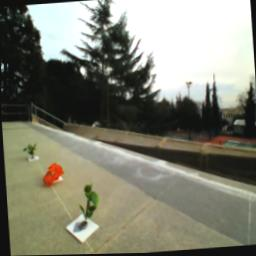herb: (78, 182, 101, 227), (24, 142, 38, 162)
wild: (40, 161, 66, 189)
